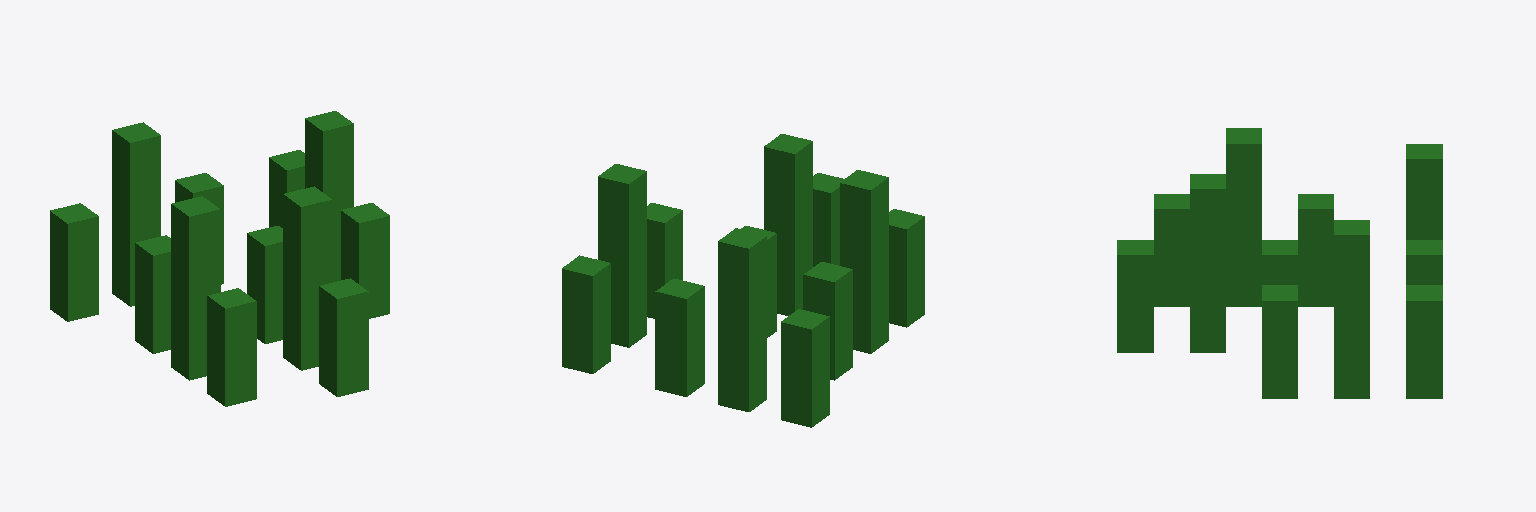
3 views of the same model, side by side, from view 1: azimuth 30°, elevation 25°; view 2: azimuth 150°, elevation 25°; view 3: azimuth 270°, elevation 25° (orthographic).
Visible parts, largest first — view 1: object 1; view 2: object 1; view 3: object 1.
Boxes of the visible parts, box(x1,y1,x2,y2) form: object 1: box(50, 111, 389, 406); object 1: box(562, 134, 924, 427); object 1: box(1117, 128, 1442, 398).
Size of the model in its own units: 0.8 by 0.5 by 0.9.
1 materials, 1 textured.